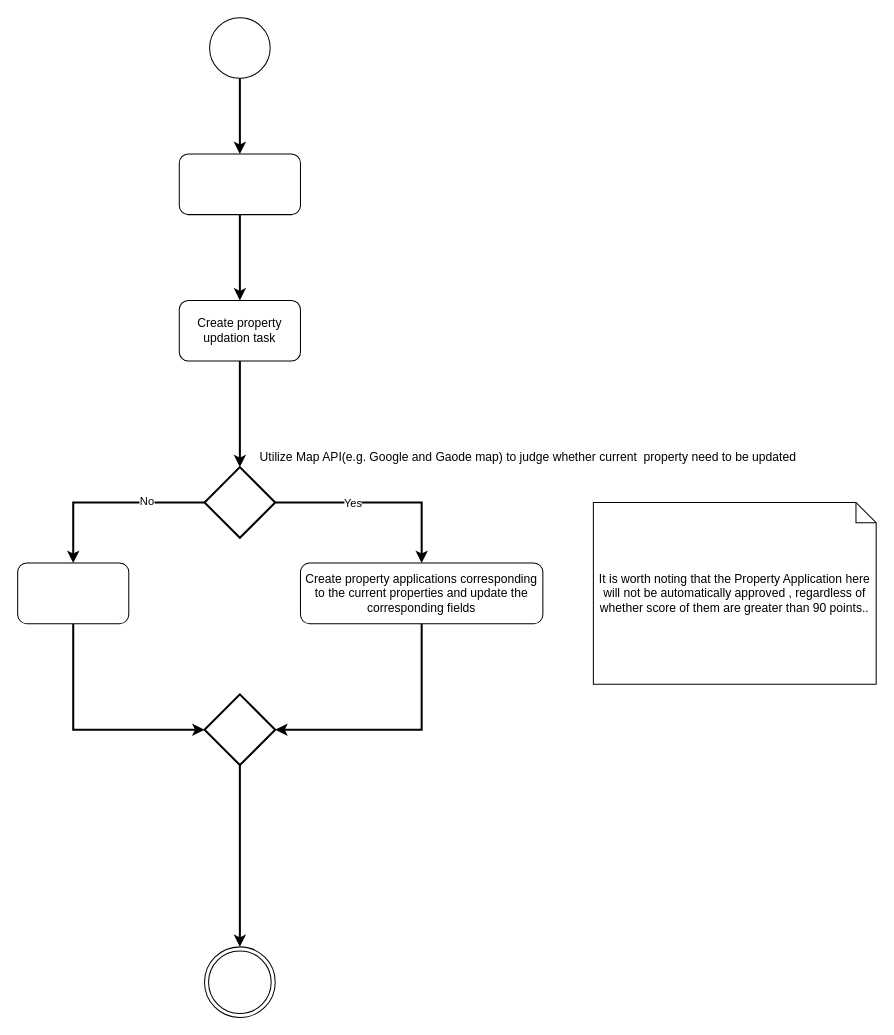
Image size: 894x1035. Some labels were removed from this diagram. Here are the shapes that lost their labels. From the top down, the box of each, then its label:
(178, 153, 300, 215): PropertyUpdation
(17, 562, 129, 624): Escape
